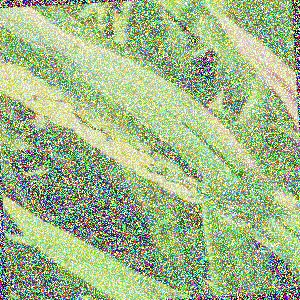Leaf_Blast: (176, 92, 294, 237)
